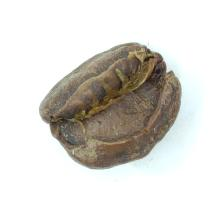NG: (54, 51, 163, 149)
